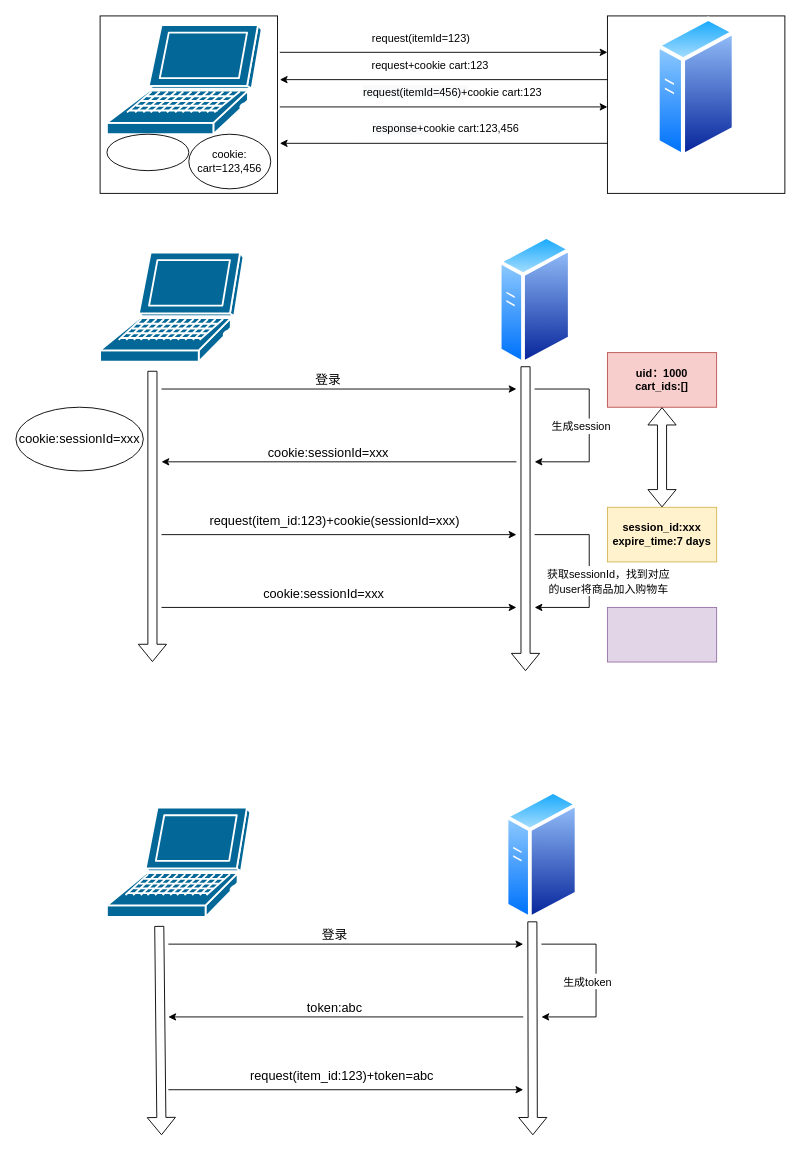
Image size: 801x1151. Some labels were removed from this diagram. Here are the shapes that lost their labels. From the top down, the centre of each, then its label:
At point (147, 152): "cookie:cart=123".
At point (662, 634): "uid：1000 cart_ids:[123]".
